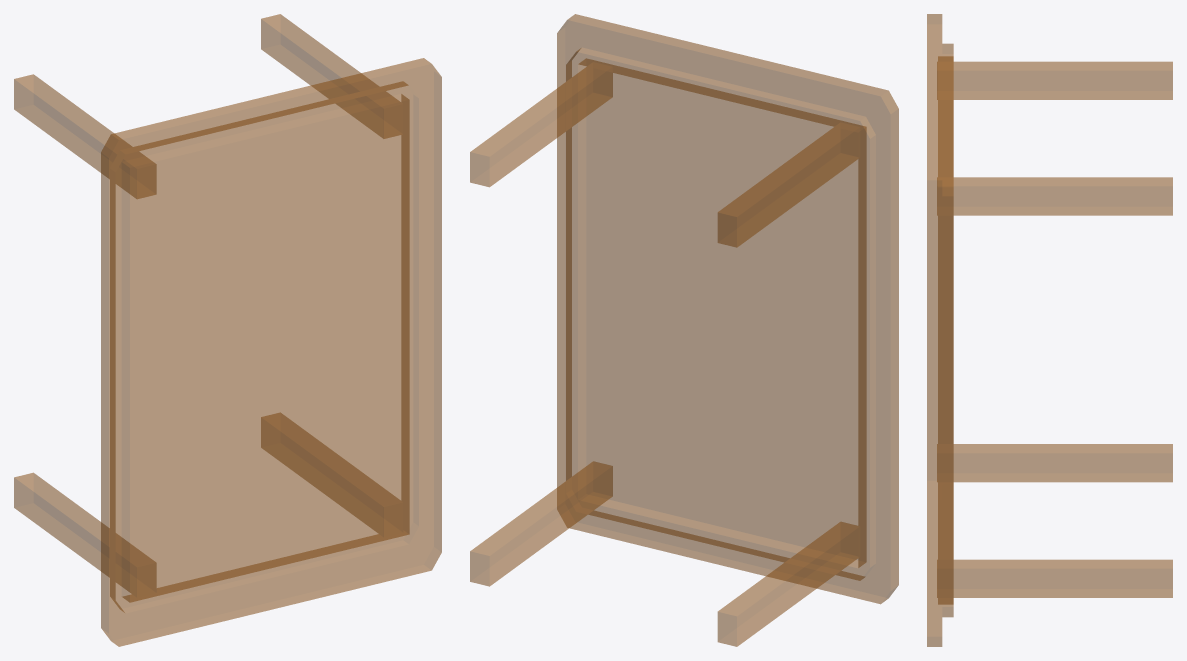
File: table_wide.obj
3 renders of one model, left to right at view 1: azimuth 30°, elevation 25°; view 2: azimuth 150°, elevation 25°; view 3: azimuth 270°, elevation 25°, orthographic. The views are drawn at different scales.
Visible parts, largest first — view 1: KitchenTable_02_Cube.118; view 2: KitchenTable_02_Cube.118; view 3: KitchenTable_02_Cube.118.
Part boxes in pixels (box(x1,y1,x2,y2)): KitchenTable_02_Cube.118: box(14, 14, 441, 646); KitchenTable_02_Cube.118: box(470, 14, 898, 646); KitchenTable_02_Cube.118: box(927, 14, 1172, 646).
Bounding box in the file's own units: 1.5 × 2.18 × 1.
